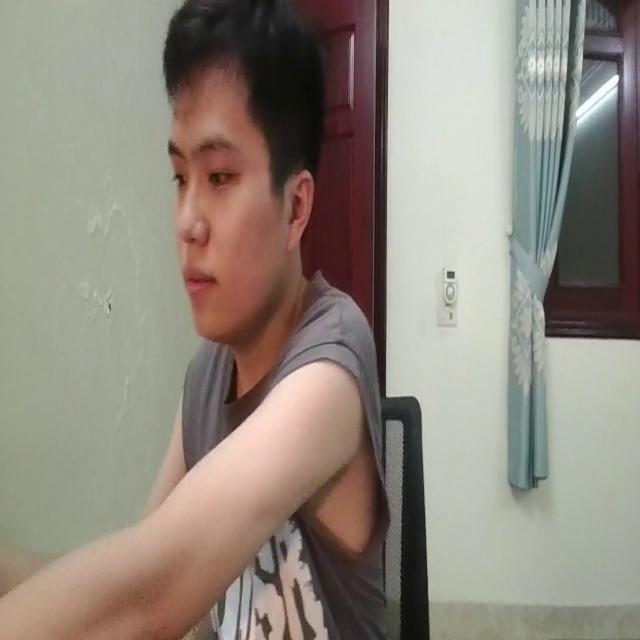student: (92, 1, 401, 640)
